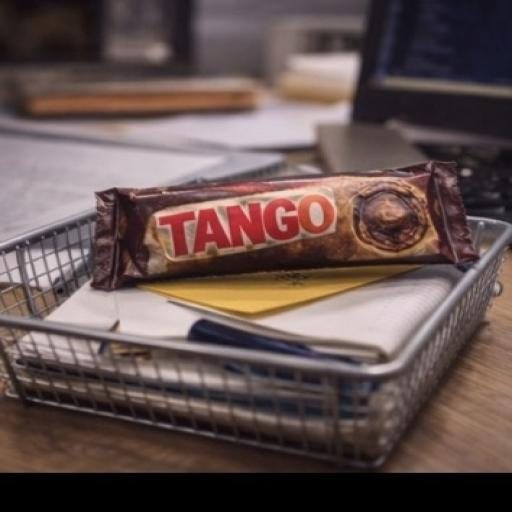tango: (59, 124, 497, 322)
